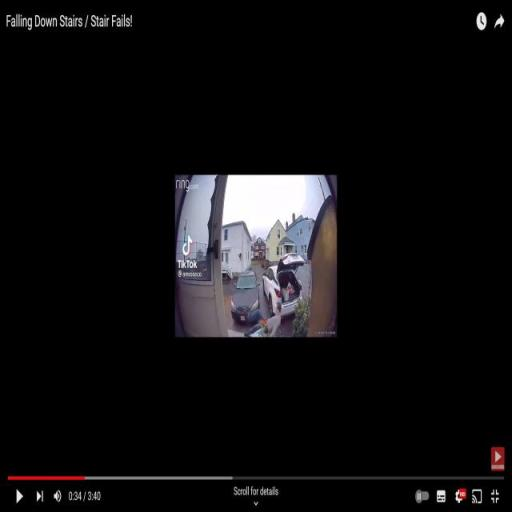Fall: (243, 296, 284, 339)
